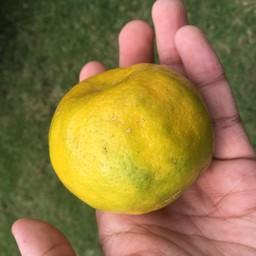Good_orange: (43, 61, 225, 213)
